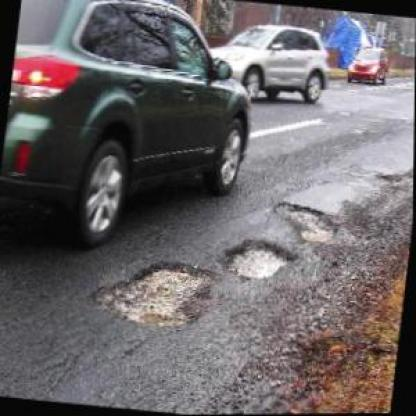pothole: (89, 248, 222, 337), (221, 233, 298, 286), (268, 197, 342, 247)
